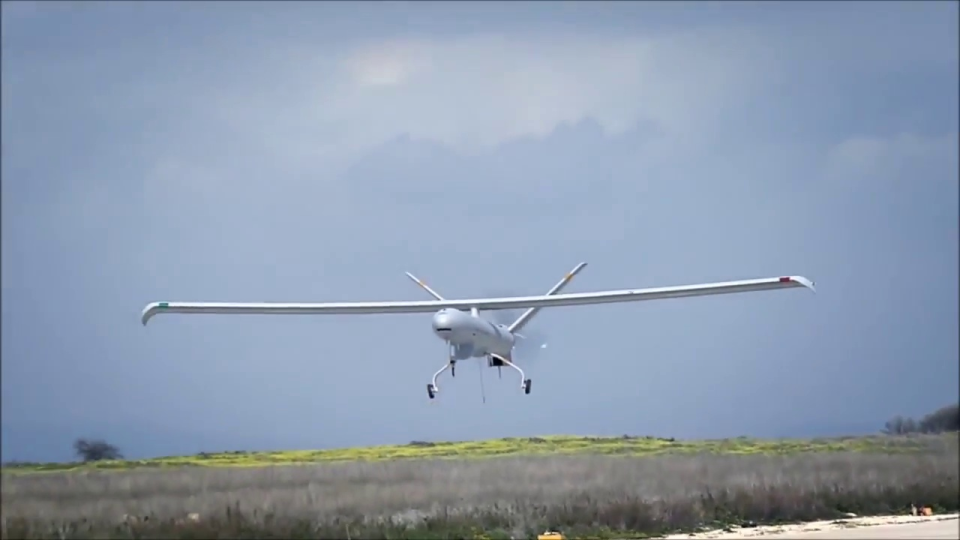military drone: (142, 262, 815, 398)
